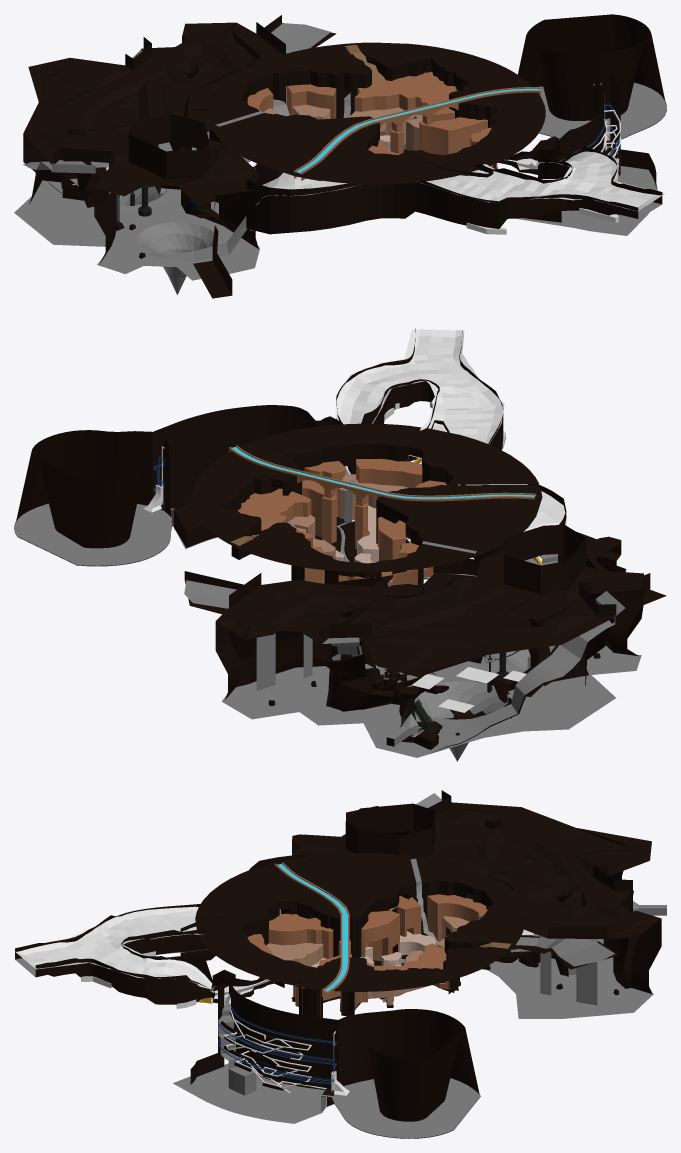
Rendered from environnement_global.FBX.
The picture shows the model from 3 angles, top to bottom: view 1: azimuth 30°, elevation 25°; view 2: azimuth 150°, elevation 25°; view 3: azimuth 270°, elevation 25°; orthographic projection. The views are drawn at different scales.
Visible parts, largest first — view 1: Lava_Lake_Plafond, Lava_River_Walls, Faille_Sud_Lava_Donut_Walls, SOL_EXT_04, Lava_lake_main, SOL_EXT_01, SOL_EXT_03, Lava_River_Plafond, lava_lake_borders, SOL_EXT_02, tourbillon02, SOL_niveau_3_01 (+19 smaller); view 2: Lava_Lake_Plafond, Faille_Sud_Lava_Donut_Walls, Lava_lake_main, Lava_River_Plafond, SOL_EXT_03, SOL_EXT_04, lava_lake_borders, Faille_Sud_Wall_North, Lava_Lake_River_Bed_Center, SOL_EXT_01, Faille_Sud_Lava_Donut, SOL_EXT_02 (+18 smaller); view 3: Lava_Lake_Plafond, Faille_Sud_Lava_Donut_Walls, SOL_EXT_04, SOL_EXT_03, Lava_River_Walls, Lava_River_Plafond, Faille_Sud_Wall_North, Faill_Sud_Lava_Fall_And_Ground, Lava_lake_main, SOL_niveau_3_03, Faille_Sud_Lava_Donut, SOL_EXT_01 (+15 smaller).
Boxes of the visible parts, x1,y1,x2,y2 form: Lava_Lake_Plafond: (23,22,285,204); Lava_River_Walls: (246,146,662,234); Faille_Sud_Lava_Donut_Walls: (518,14,666,139); SOL_EXT_04: (208,75,379,180); Lava_lake_main: (14,131,259,280); SOL_EXT_01: (235,42,438,118); SOL_EXT_03: (321,104,545,184); Lava_River_Plafond: (256,151,664,211); lava_lake_borders: (23,15,336,298); SOL_EXT_02: (431,47,543,127); tourbillon02: (129,218,225,294); SOL_niveau_3_01: (354,71,457,121); Lava_Lake_Plafond: (216,524,643,676); Faille_Sud_Lava_Donut_Walls: (14,430,174,566); Lava_lake_main: (222,645,641,757); Lava_River_Plafond: (335,329,567,531); SOL_EXT_03: (261,423,538,485); SOL_EXT_04: (359,484,542,584); lava_lake_borders: (184,542,666,699); Faille_Sud_Wall_North: (164,412,311,547); Lava_Lake_River_Bed_Center: (319,584,448,749); SOL_EXT_01: (194,507,363,583); Faille_Sud_Lava_Donut: (14,503,172,565); SOL_EXT_02: (191,439,302,510); Lava_Lake_Plafond: (292,790,661,938); Faille_Sud_Lava_Donut_Walls: (321,1009,480,1138); SOL_EXT_04: (253,853,504,958); SOL_EXT_03: (195,869,316,1016); Lava_River_Walls: (15,854,397,1004); Lava_River_Plafond: (14,906,214,989); Faille_Sud_Wall_North: (231,982,338,1106); Faill_Sud_Lava_Fall_And_Ground: (173,1006,331,1123); Lava_lake_main: (487,939,653,1018); SOL_niveau_3_03: (247,896,421,1014); Faille_Sud_Lava_Donut: (332,1078,480,1138); SOL_EXT_01: (443,890,524,993).
Bounding box in the file's own units: 69864 × 18482 × 68230.
